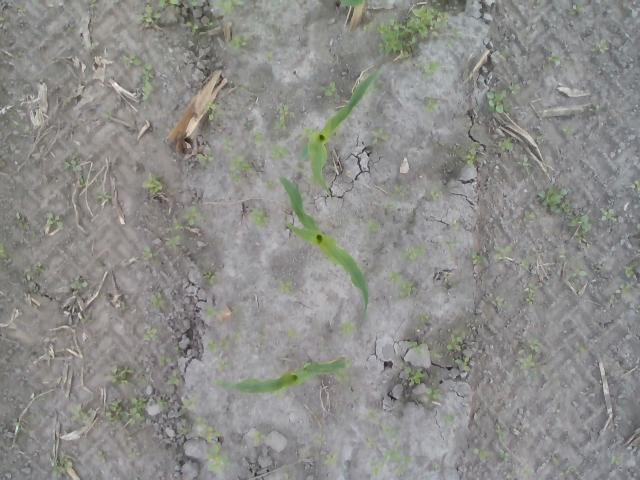Maize: (276, 170, 368, 328), (298, 65, 385, 192), (220, 356, 348, 402)
Weeds: (374, 4, 448, 63), (534, 183, 594, 243), (195, 414, 233, 475), (372, 448, 415, 476), (486, 79, 520, 114), (105, 397, 147, 423), (562, 255, 589, 290), (408, 338, 448, 359), (386, 270, 417, 296), (228, 154, 254, 184), (519, 335, 541, 369), (207, 330, 240, 352), (455, 140, 480, 168), (383, 183, 408, 208), (51, 455, 73, 480), (383, 420, 401, 450), (403, 364, 427, 386), (138, 4, 160, 28), (142, 63, 156, 100), (228, 32, 256, 50), (166, 222, 184, 250), (401, 242, 426, 262), (110, 366, 136, 385), (416, 61, 440, 80), (273, 102, 289, 130), (320, 79, 340, 101), (122, 48, 142, 70), (142, 173, 164, 193), (522, 282, 540, 306), (446, 333, 466, 354), (62, 150, 82, 171), (214, 0, 240, 16), (0, 240, 17, 264), (23, 263, 45, 281), (183, 206, 201, 228), (250, 207, 270, 226), (468, 446, 491, 462), (143, 325, 162, 344), (544, 46, 562, 66), (522, 206, 540, 225), (493, 245, 512, 263), (272, 143, 292, 160), (208, 101, 225, 121), (70, 405, 90, 422), (447, 27, 463, 48), (518, 158, 536, 176), (416, 311, 433, 330), (371, 127, 390, 144), (495, 422, 512, 440), (337, 319, 354, 337), (422, 96, 440, 113), (277, 278, 296, 294), (454, 356, 472, 372), (70, 274, 88, 290), (623, 260, 639, 278), (590, 38, 608, 54), (598, 208, 618, 222), (496, 136, 513, 152), (425, 387, 443, 402), (204, 301, 218, 320), (466, 250, 482, 266), (150, 290, 166, 306), (46, 211, 63, 226), (94, 190, 112, 204), (567, 2, 585, 16), (446, 238, 466, 250), (366, 217, 382, 232), (201, 270, 217, 285), (520, 464, 534, 480), (559, 463, 576, 476), (142, 245, 160, 257), (253, 430, 264, 448), (498, 449, 512, 463), (186, 20, 200, 34), (429, 184, 441, 200), (96, 448, 108, 464), (222, 136, 234, 152), (197, 150, 214, 161), (621, 282, 634, 296), (127, 447, 142, 459), (322, 452, 337, 464), (158, 0, 180, 8), (442, 414, 458, 425), (364, 434, 376, 448), (218, 360, 232, 372), (159, 355, 174, 366), (367, 407, 377, 423), (518, 258, 530, 271), (362, 22, 375, 34), (182, 398, 196, 409), (253, 132, 265, 144), (630, 178, 640, 192), (496, 295, 506, 308), (450, 222, 463, 232), (282, 464, 290, 480), (611, 454, 621, 466), (286, 328, 298, 338), (18, 4, 28, 16), (63, 95, 73, 107), (266, 180, 276, 192), (168, 374, 178, 386), (102, 111, 113, 121), (531, 0, 544, 8), (562, 126, 572, 136), (158, 399, 168, 409), (608, 293, 617, 304), (316, 434, 325, 444), (207, 16, 214, 28), (264, 52, 274, 60), (68, 24, 78, 32), (87, 0, 97, 8), (190, 0, 202, 6), (0, 15, 8, 24), (243, 122, 252, 130), (14, 424, 20, 433)
